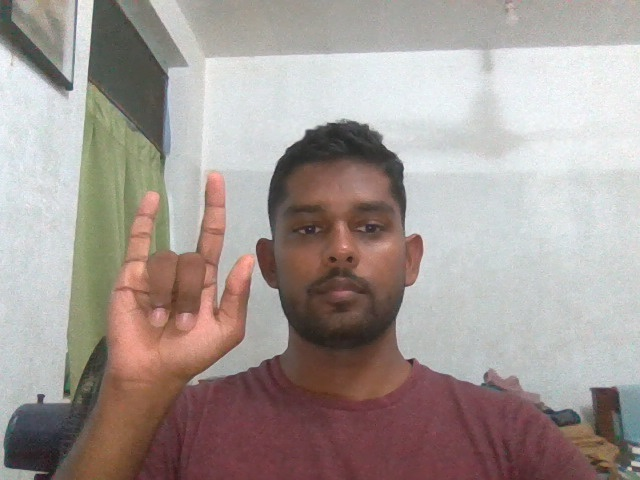hello: (66, 162, 264, 393)
